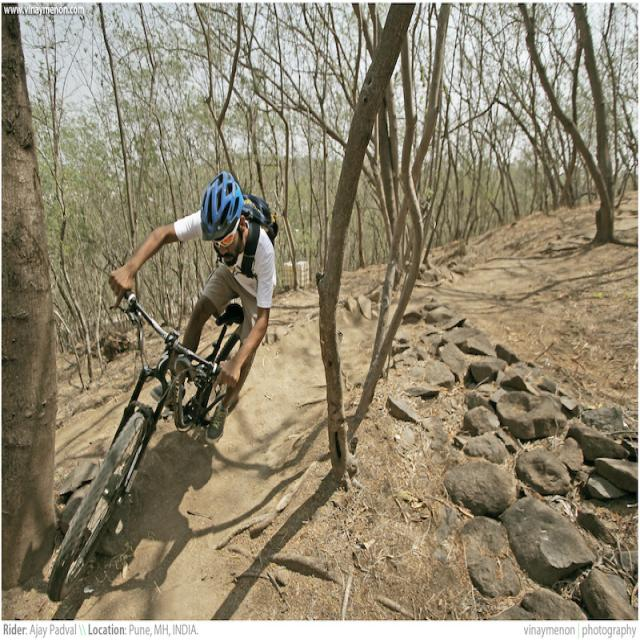bicycle: (48, 172, 276, 599)
